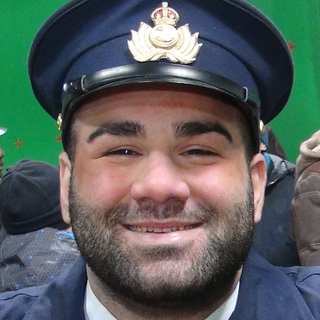eye: (175, 141, 225, 164), (97, 141, 145, 164)
